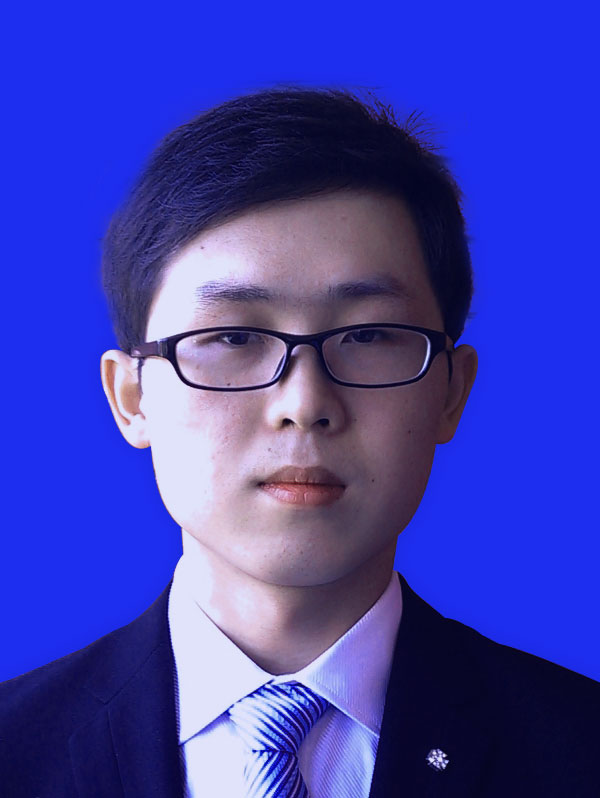unmask: (156, 206, 447, 579)
